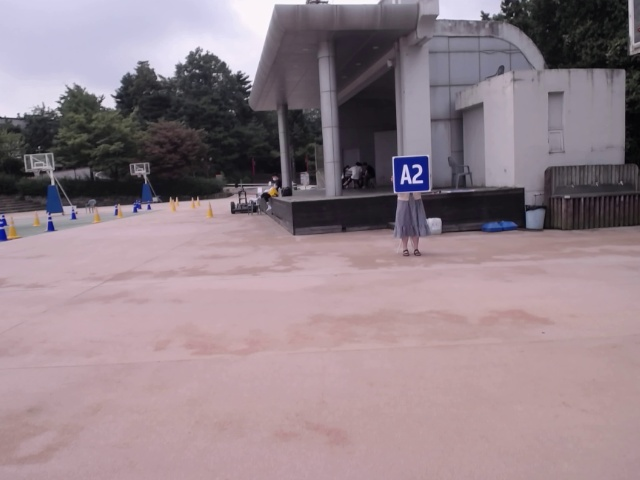delivery_a2: (392, 155, 430, 193)
